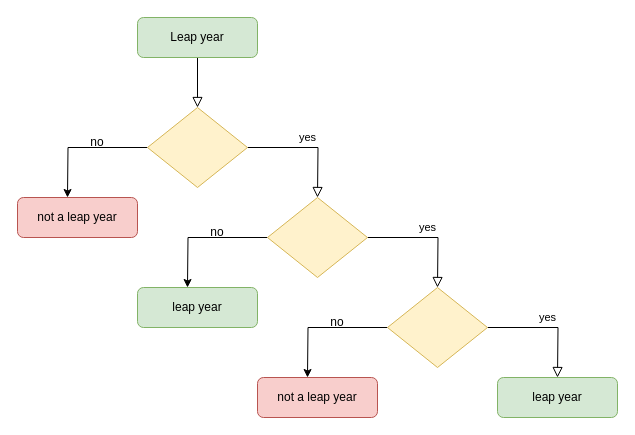
Image size: 635x435. Some labels were removed from this diagram. The centre of each missing label's shape, as x and y in pixels:
clearly / by 100: [317,237]
clearly / by 4: [197,147]
clearly / by 400: [437,327]
